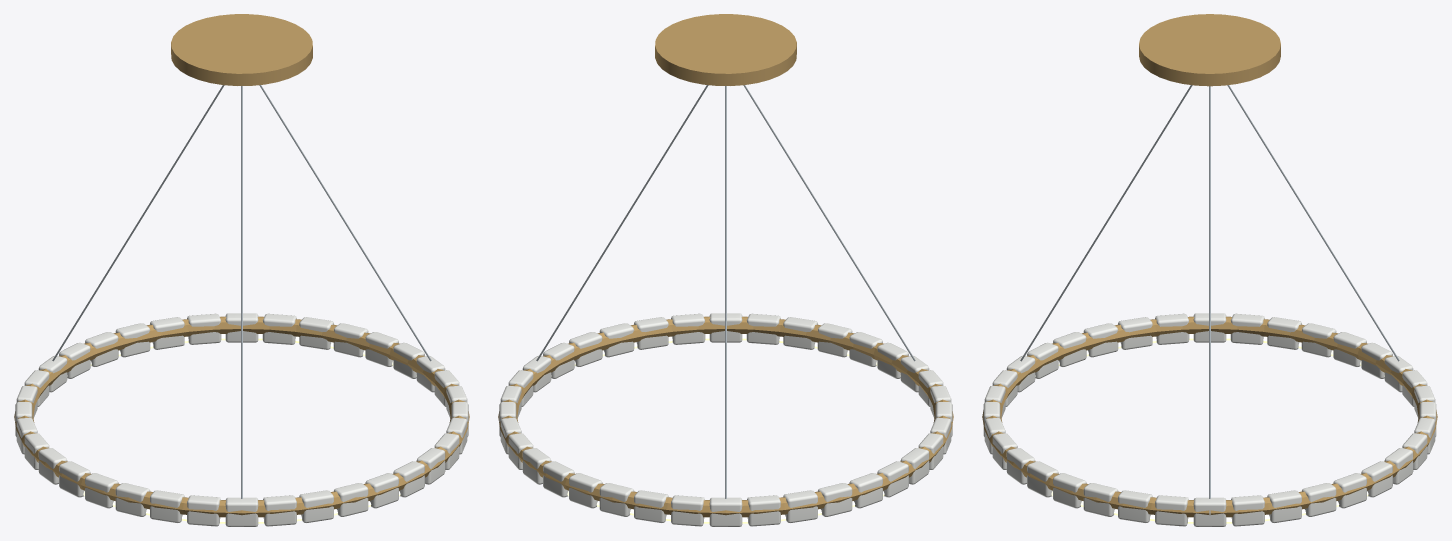
Rendered from chandelier-alabaster-ring.glb.
3 views of the same model, side by side, from view 1: azimuth 30°, elevation 25°; view 2: azimuth 150°, elevation 25°; view 3: azimuth 270°, elevation 25° (orthographic).
Parts seen in each view (by area): view 1: chandelier-alabaster-ring authored assembly; view 2: chandelier-alabaster-ring authored assembly; view 3: chandelier-alabaster-ring authored assembly.
Boxes of the visible parts, <box> form: chandelier-alabaster-ring authored assembly: <box>14,14,469,526</box>; chandelier-alabaster-ring authored assembly: <box>498,14,953,526</box>; chandelier-alabaster-ring authored assembly: <box>982,14,1437,526</box>.
Size of the model in its own units: 0.85 by 0.8 by 0.85.
